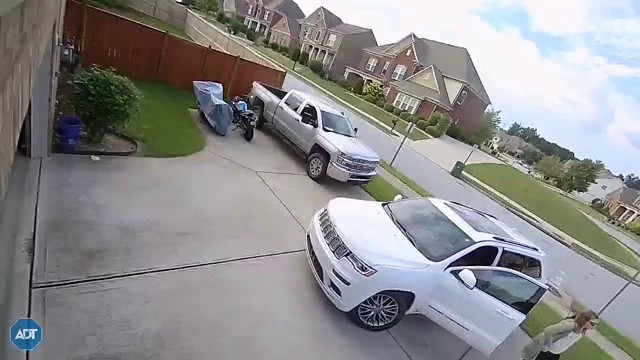face: (584, 316, 597, 329)
